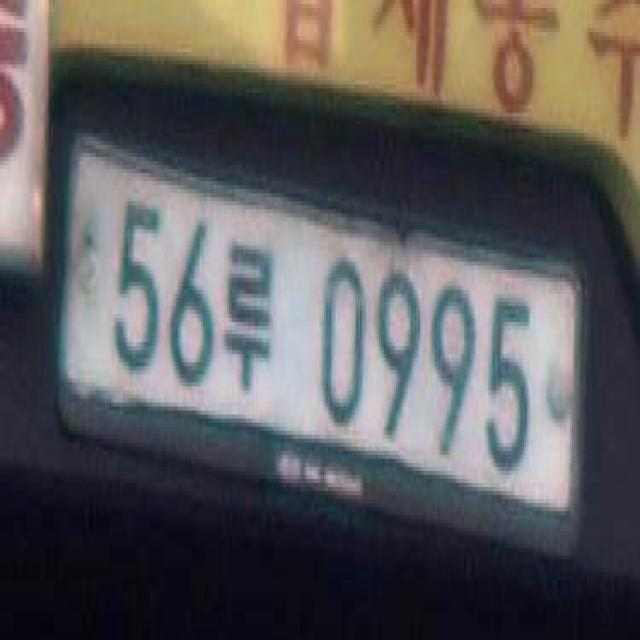illegal_plate: (69, 138, 589, 546)
